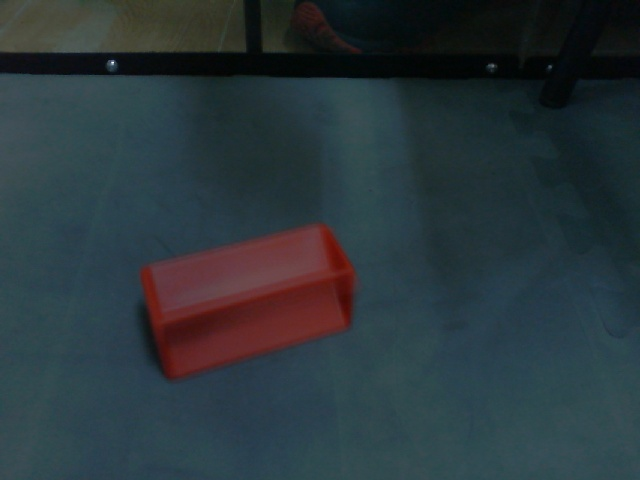RedSample: (139, 221, 358, 381)
